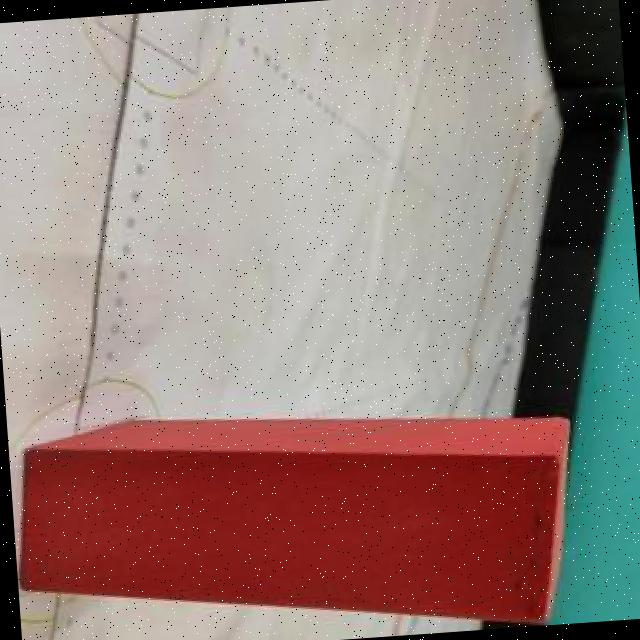redbox: (9, 411, 574, 618)
